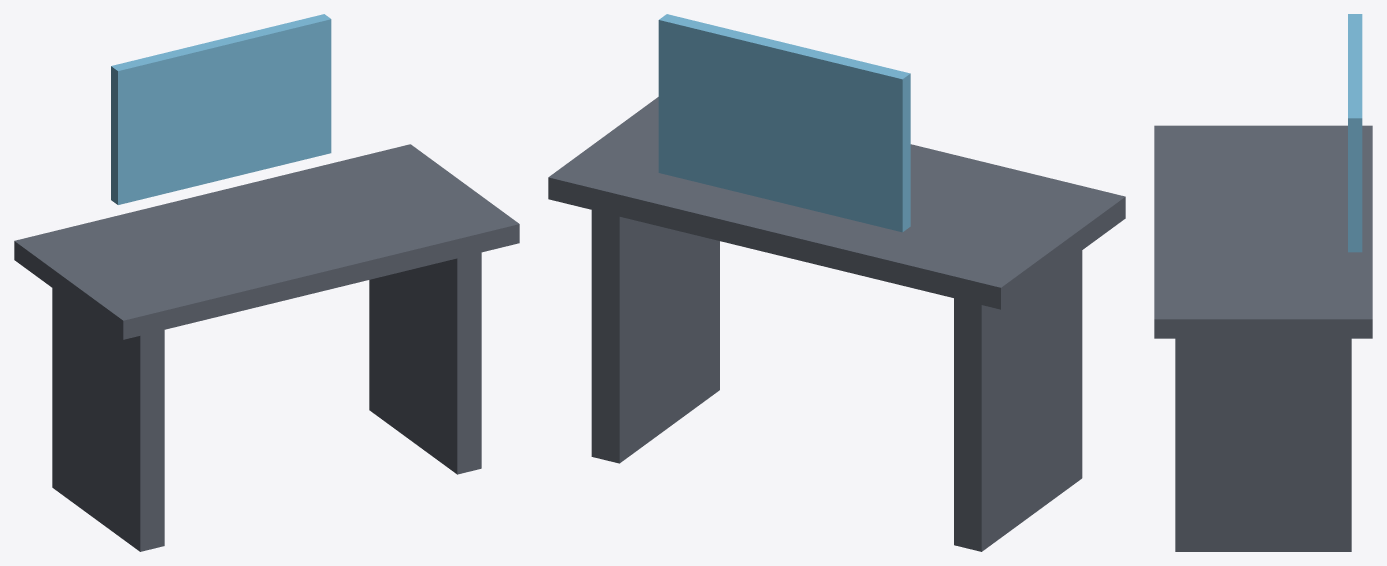
File: console-desk.glb
3 renders of one model, left to right at view 1: azimuth 30°, elevation 25°; view 2: azimuth 150°, elevation 25°; view 3: azimuth 270°, elevation 25°, orthographic. The views are drawn at different scales.
Visible parts, largest first — view 1: console-desk; view 2: console-desk; view 3: console-desk.
Part boxes in pixels (x1,y1,x2,y2): console-desk: [14, 14, 519, 551]; console-desk: [548, 14, 1125, 551]; console-desk: [1154, 14, 1372, 551].
Bounding box in the file's own units: 1.3 × 1.26 × 0.62.
